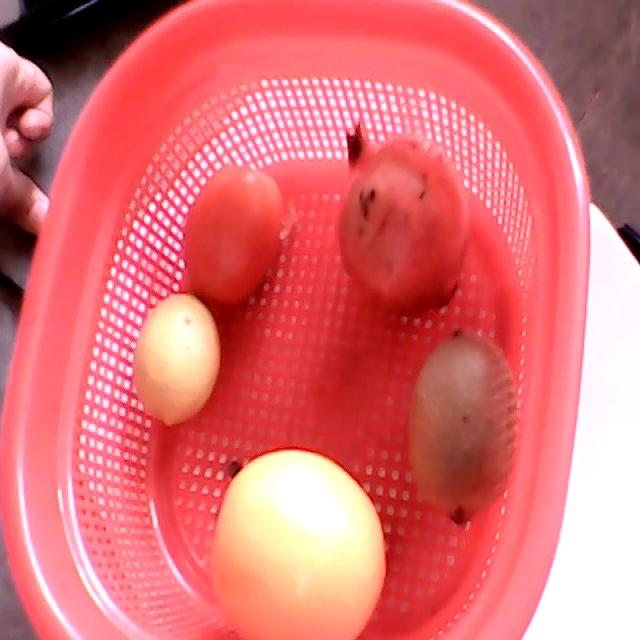kiwi: (408, 330, 515, 529)
lemon: (132, 295, 221, 426)
orange: (212, 450, 387, 639)
pomegranate: (337, 122, 465, 317)
tomato: (188, 168, 283, 307)
